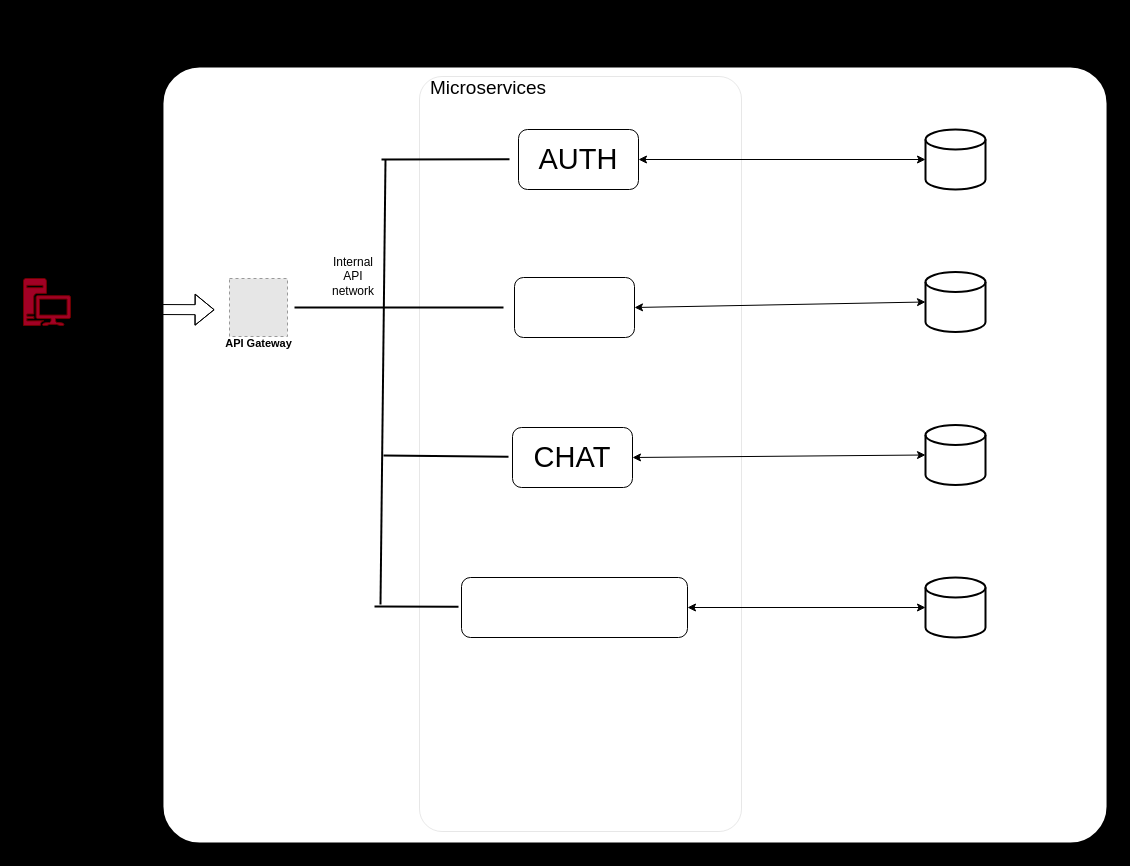
Image size: 1130x866. Some labels were removed from this diagram. Grey dashed boxes stand in for pictures. Here are the shapes that lost their labels. From the top down, the centre of each, then its label:
At point (574, 307): "LOGIN".
At point (574, 607): "MATCHMAKING".
